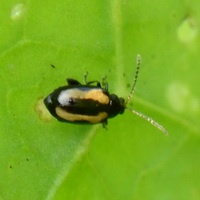insect: (44, 55, 167, 134)
